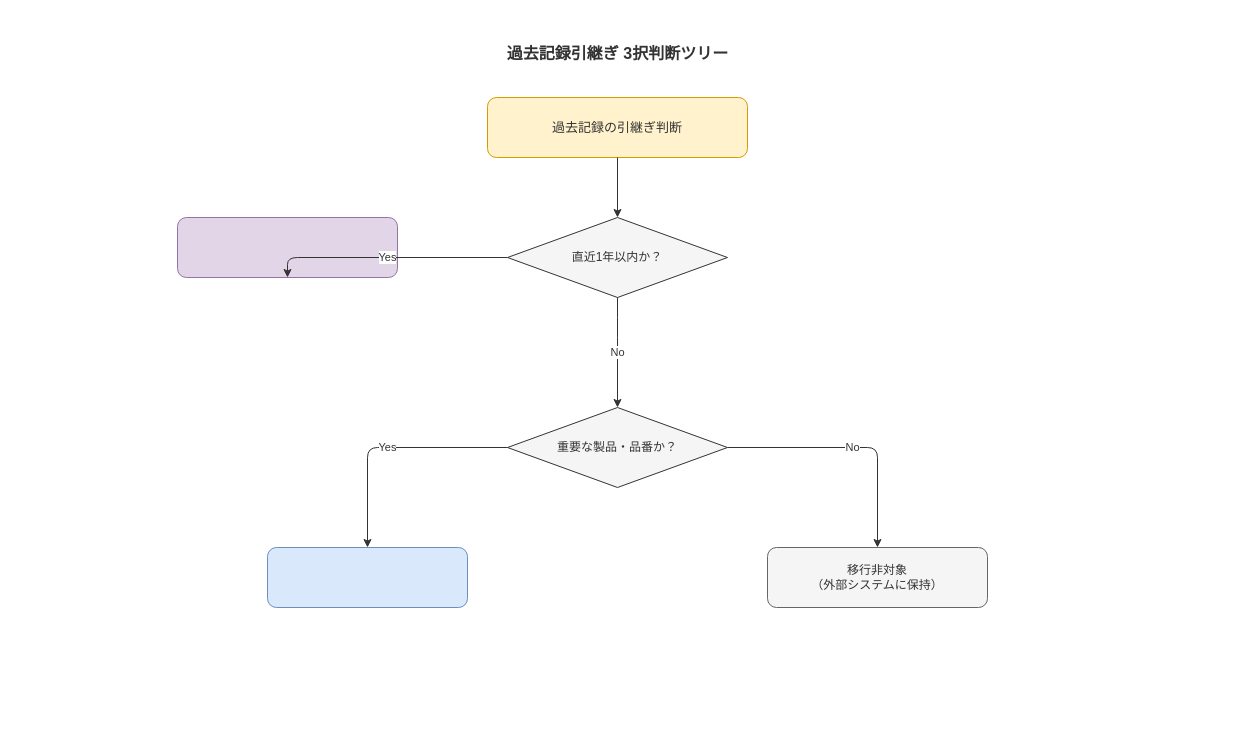
The diagram is 1234 pixels wide and 734 high, and some of its shapes have lost their labels. Here are the shapes that lost their labels. From the top down, the centre of each, then its label:
At point (287, 247): "移行対象 （external_lot_id 紐付け）".
At point (367, 577): "個別判断・IT担当に相談".
